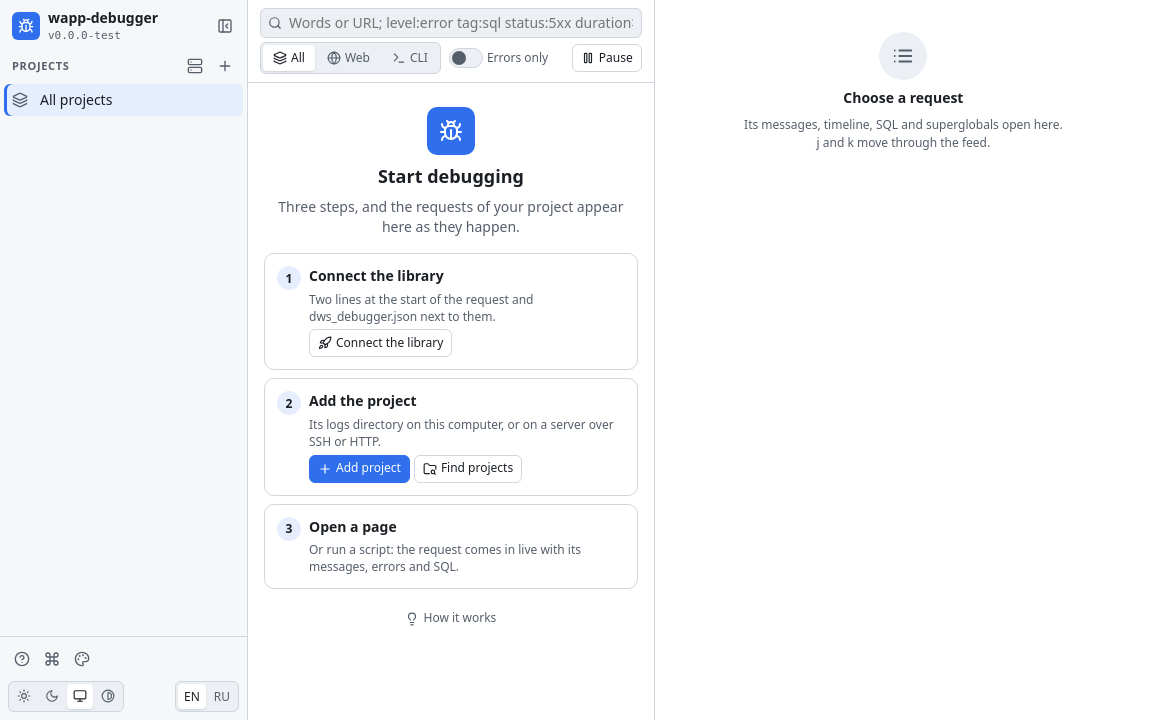
Scenario: App › adds the first project from the first steps
Step 1. Click the button "Add project" → (359, 468), box [309,454,410,482]
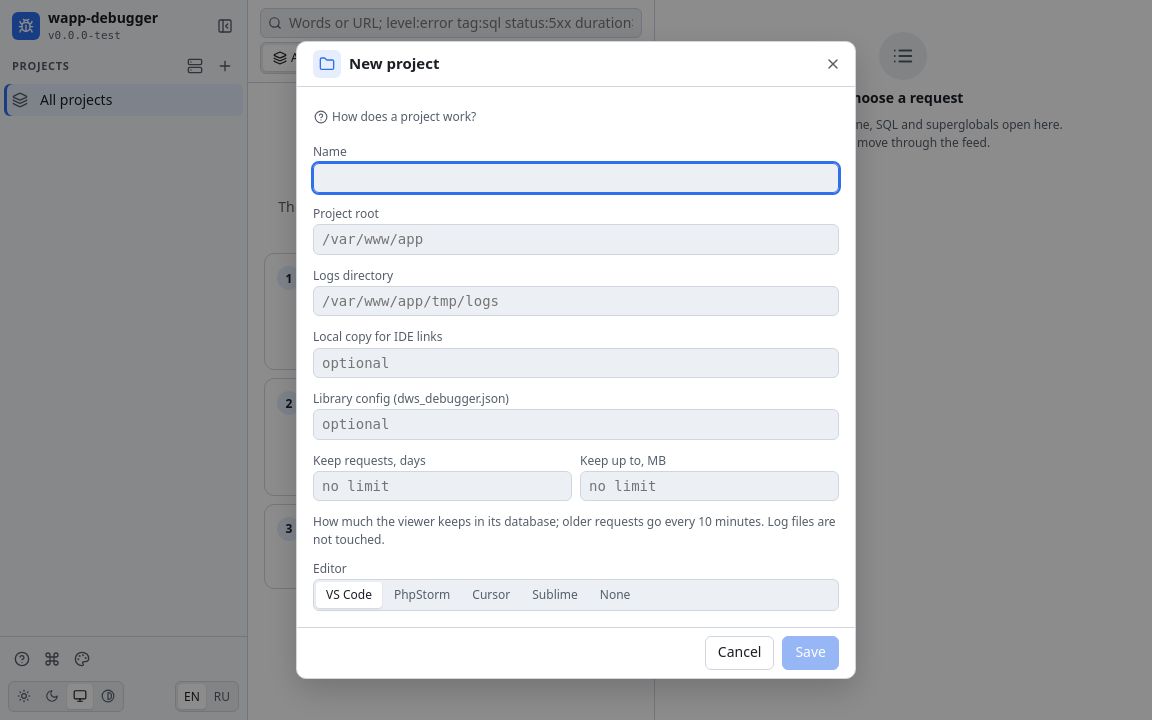
Now the dialog "New project" is shown, box [296,41,856,679]
